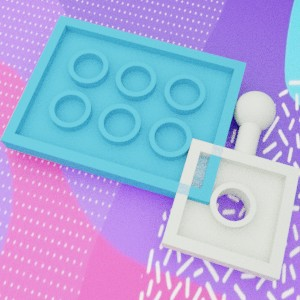lego: (0, 15, 246, 208), (161, 91, 300, 281)
